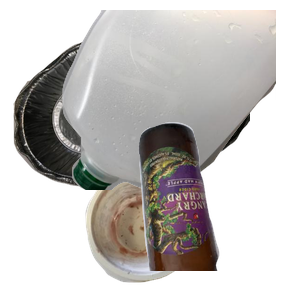glass: (136, 120, 300, 300)
metal: (11, 20, 251, 200)
plastic: (60, 10, 300, 190)
trash: (83, 163, 276, 300)
